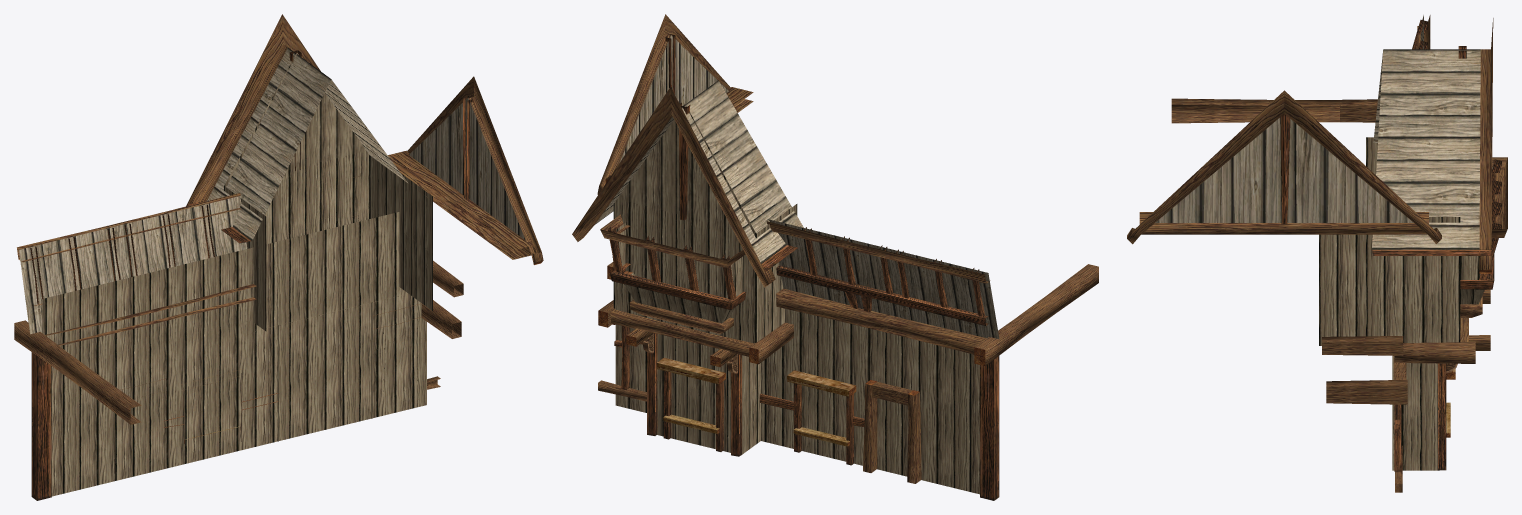
File: LAKETOWN_EXTERIOR_PS_LT_INN74746__GX.fbx
The picture shows the model from 3 angles, left to right: view 1: azimuth 30°, elevation 25°; view 2: azimuth 150°, elevation 25°; view 3: azimuth 270°, elevation 25°; orthographic projection. The views are drawn at different scales.
Visible parts, largest first — view 1: LAKETOWN_EXTERIOR_PS_LT_INN74746__GX; view 2: LAKETOWN_EXTERIOR_PS_LT_INN74746__GX; view 3: LAKETOWN_EXTERIOR_PS_LT_INN74746__GX.
Part boxes in pixels (left/top/right/bottom): LAKETOWN_EXTERIOR_PS_LT_INN74746__GX: left=14, top=14, right=543, bottom=500; LAKETOWN_EXTERIOR_PS_LT_INN74746__GX: left=572, top=14, right=1098, bottom=500; LAKETOWN_EXTERIOR_PS_LT_INN74746__GX: left=1127, top=15, right=1507, bottom=492.
Size of the model in its own units: 126638 by 113180 by 90881.
12 materials, 12 textured.
